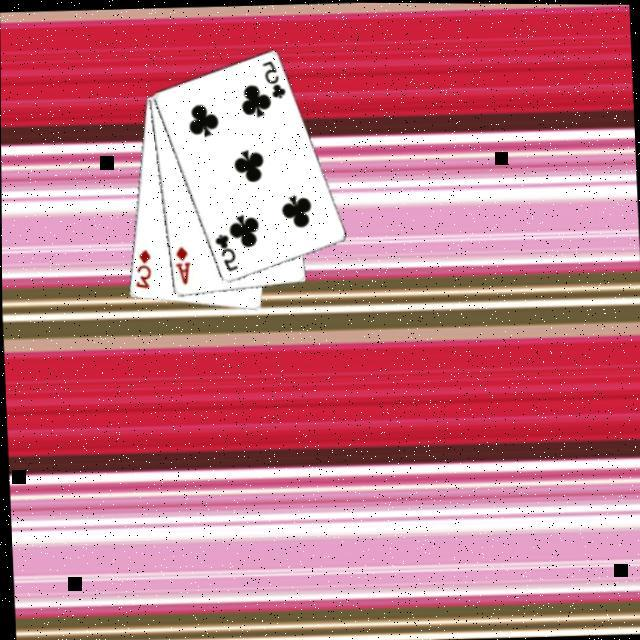3D: (128, 244, 152, 289)
5C: (257, 55, 286, 99), (210, 229, 238, 273)
AD: (170, 241, 191, 284)
